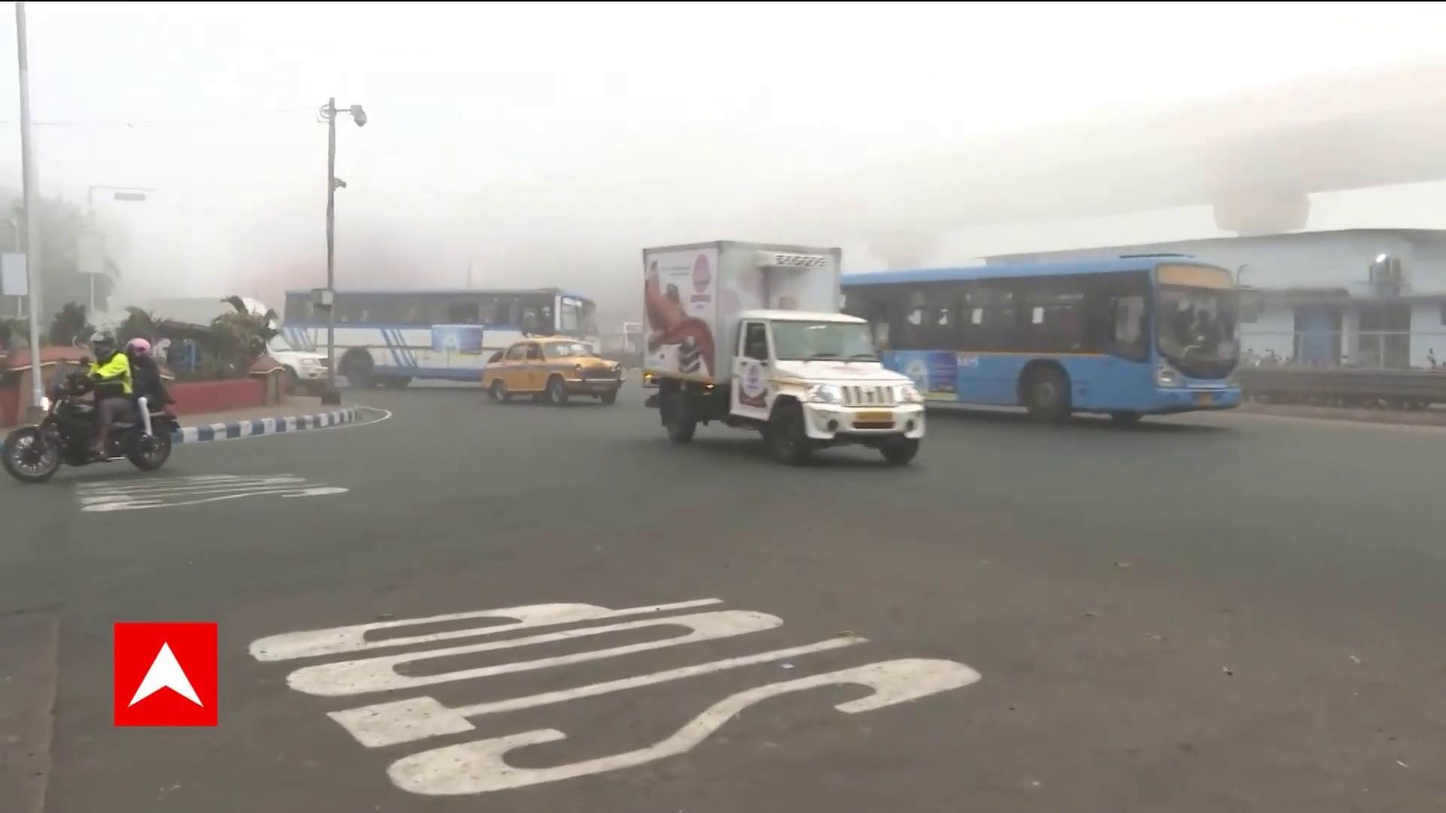Bike: (2, 323, 181, 485)
Bus: (836, 245, 1240, 431), (279, 281, 602, 384)
Car: (479, 336, 627, 407)
Truck: (641, 235, 928, 466)
